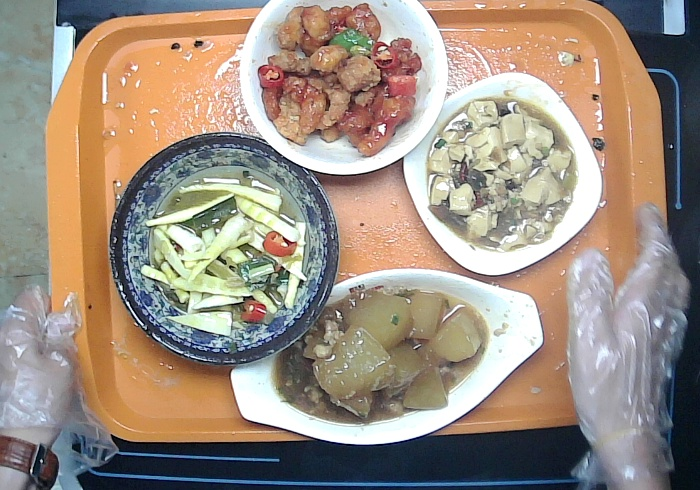ZNLD-Qing_Hua_Wan: (108, 130, 342, 366)
ZNLD-Si_Fang_Wan: (401, 71, 604, 277)
ZNLD-Tang_Wan: (240, 1, 447, 176)
ZNLD-Yu_Pan: (228, 267, 544, 446)
